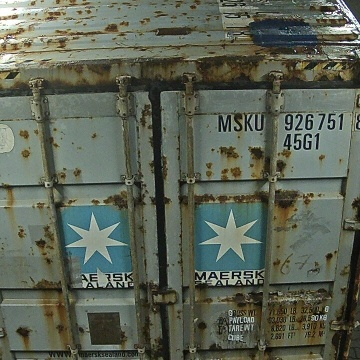serial_id: (219, 111, 360, 131)
